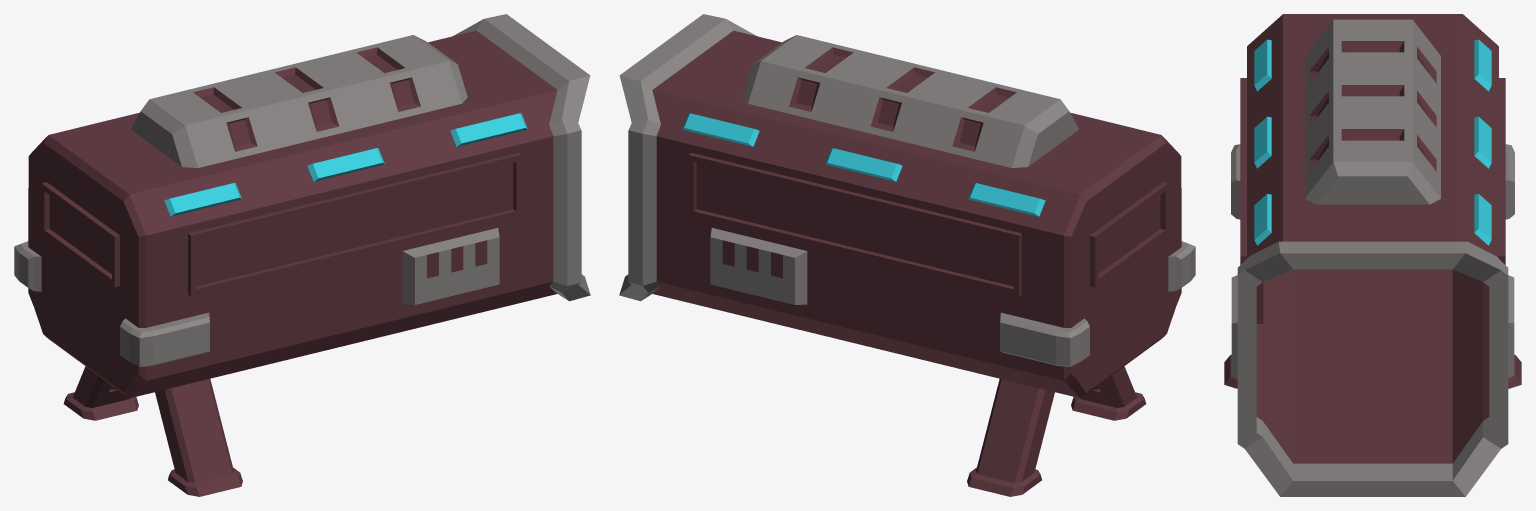
File: scifi-planet-base-side-sleeping.fbx
The picture shows the model from 3 angles, left to right: view 1: azimuth 30°, elevation 25°; view 2: azimuth 150°, elevation 25°; view 3: azimuth 270°, elevation 25°; orthographic projection. The views are drawn at different scales.
Parts seen in each view (by area): view 1: scifi-planet-base-side-sleeping; view 2: scifi-planet-base-side-sleeping; view 3: scifi-planet-base-side-sleeping.
Boxes of the visible parts, bbox=[...] form: scifi-planet-base-side-sleeping: bbox=[14, 14, 590, 496]; scifi-planet-base-side-sleeping: bbox=[619, 14, 1195, 496]; scifi-planet-base-side-sleeping: bbox=[1224, 14, 1521, 496].
Size of the model in its own units: 5.98 by 3.93 by 2.93.
